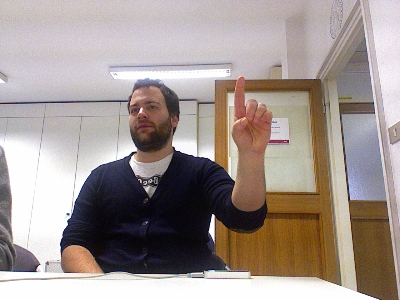食指: (231, 75, 272, 153)
